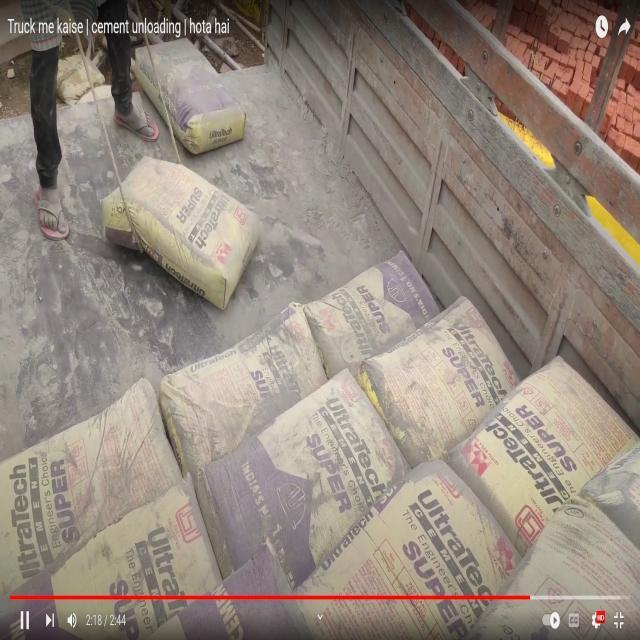gunny_bag: (197, 369, 409, 589), (298, 460, 521, 640), (0, 380, 181, 596), (451, 356, 639, 555), (0, 479, 221, 640), (159, 303, 327, 479), (358, 296, 519, 467), (102, 155, 259, 308), (305, 249, 438, 376), (150, 37, 245, 153)
